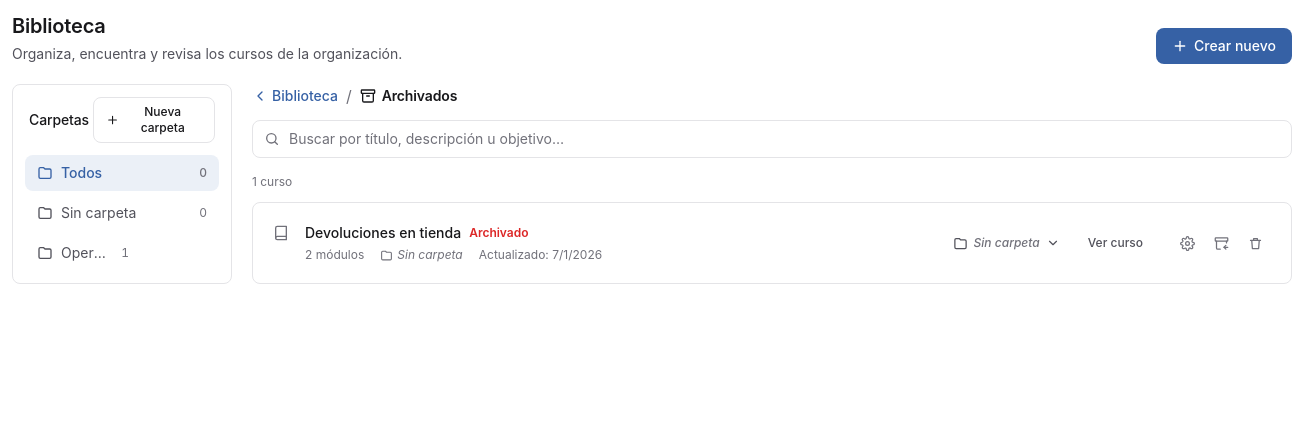
Test case: Content — unarchiving › brings the row back into the library as published, not as a draft
The width and height of the screenshot is (1304, 434).
Click the button named "Desarchivar Devoluciones en tienda".
click(1221, 243)  # box [1205, 227, 1237, 259]
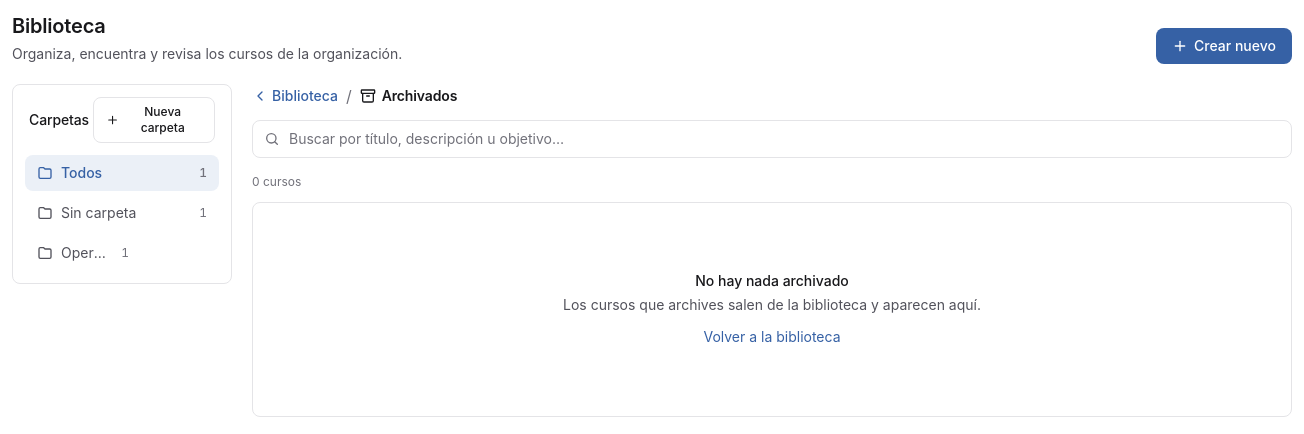
Now the text "No hay nada archivado" is shown, box [695, 272, 849, 289]
...and is waiting in the library, with its Archive icon and no Publish button.
Click the button "Biblioteca".
click(295, 96)  # box [252, 86, 338, 106]
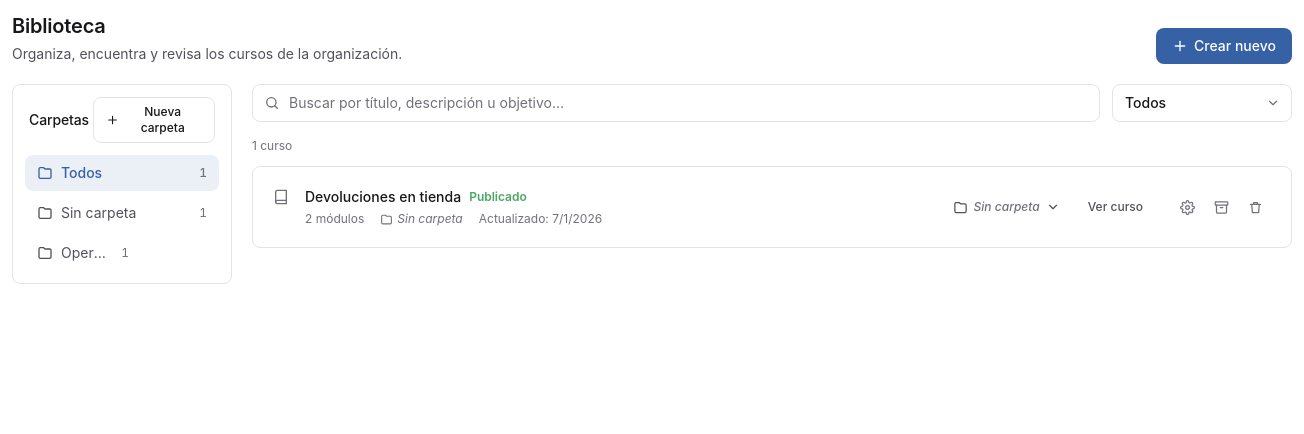
Now the button named "Archivar Devoluciones en tienda" is shown, box [1205, 191, 1237, 223]
